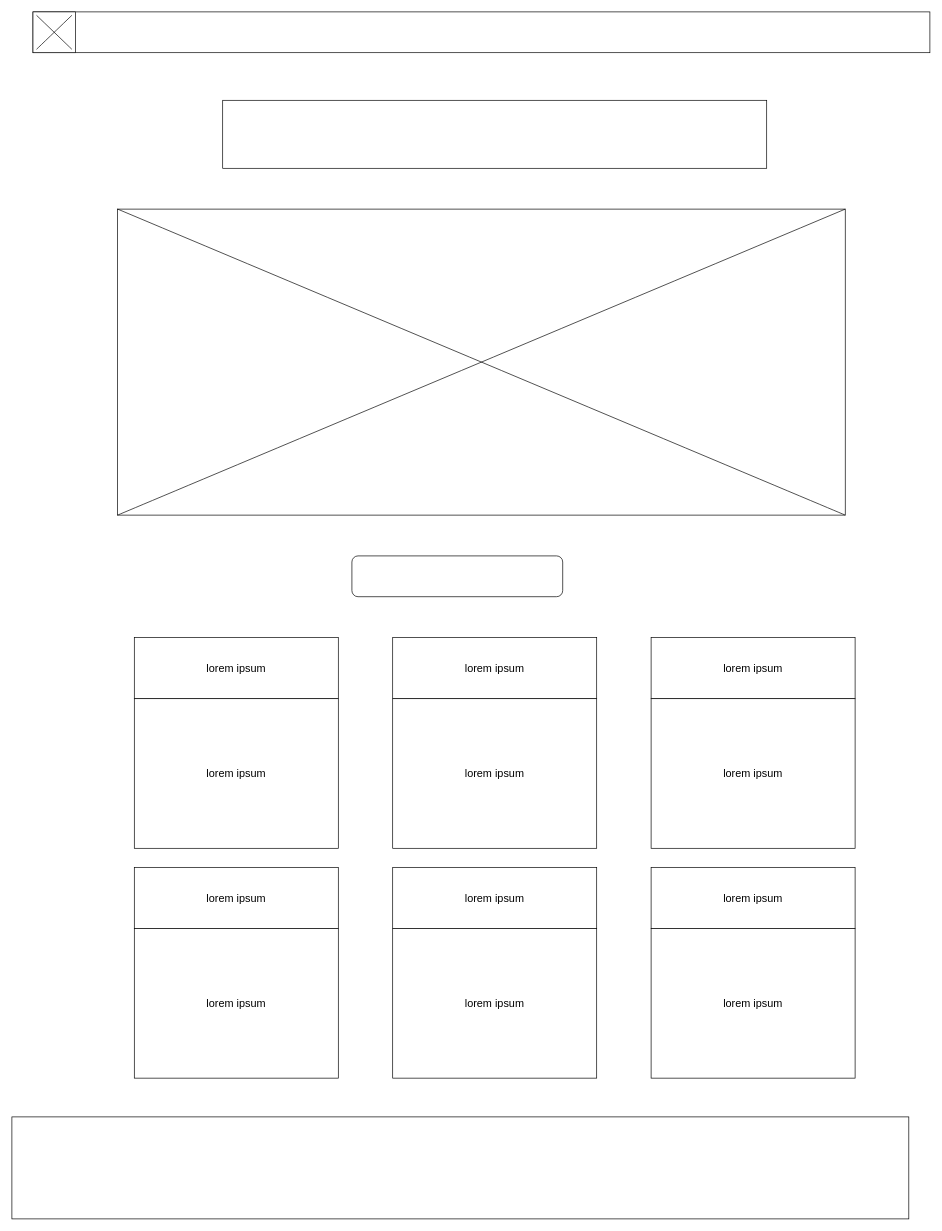
This 942x1231 diagram has some shape labels left out. Here are the shapes that lost their labels. From the top down, the box of each, then its label:
(32, 11, 930, 53): nav
(222, 100, 767, 168): Open dagen overzicht
(351, 555, 563, 597): activiteiten overzicht
(11, 1116, 909, 1219): footer
